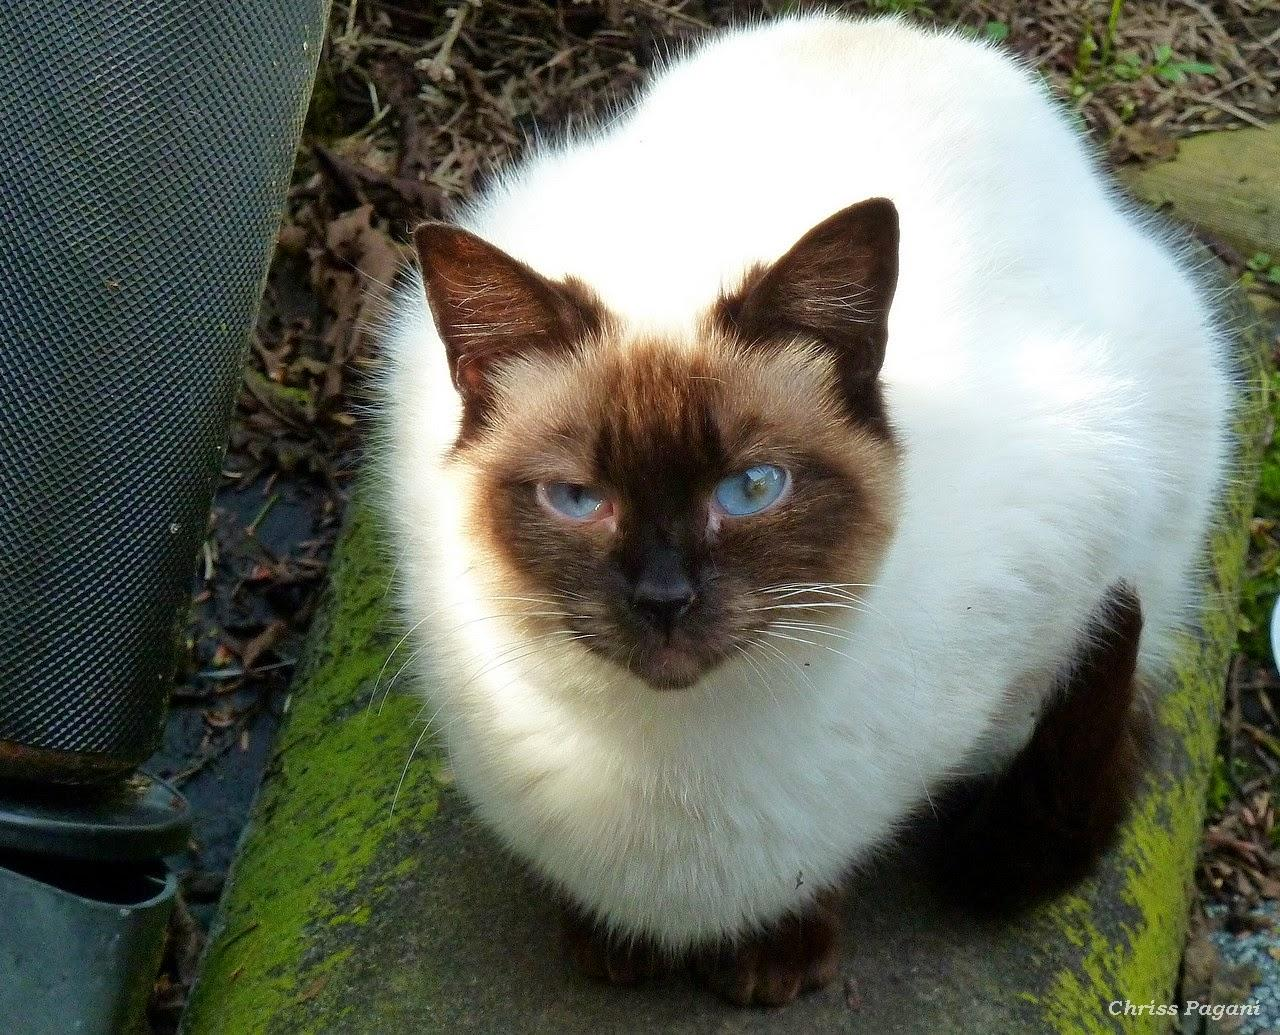siamese: (408, 194, 931, 698)
